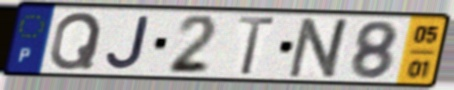2: (167, 13, 221, 76)
8: (345, 19, 401, 81)
J: (104, 14, 152, 71)
N: (284, 16, 356, 81)
Q: (47, 10, 106, 72)
T: (234, 14, 280, 78)
